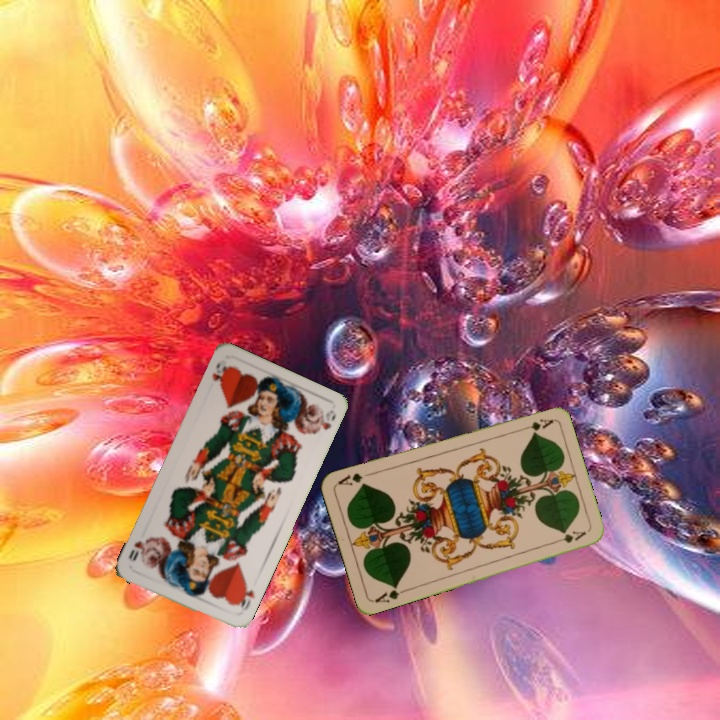GA: (371, 581, 410, 605), (515, 415, 555, 434)
HO: (233, 579, 258, 613), (208, 358, 231, 388)
